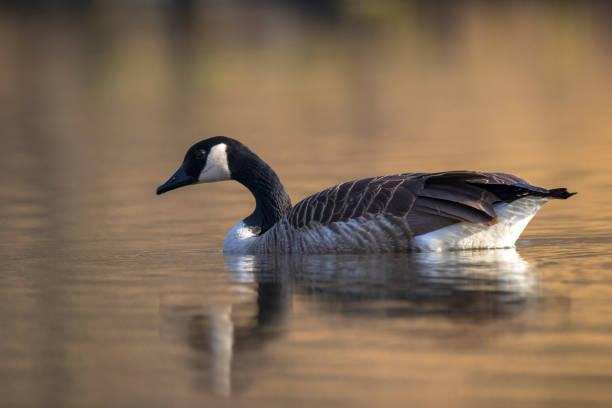Canadian-Goose: (154, 130, 555, 259)
